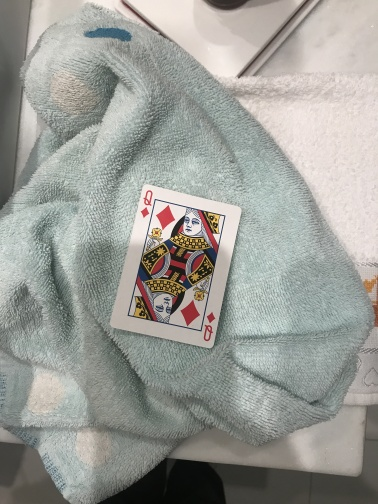queen: (108, 183, 243, 349)
